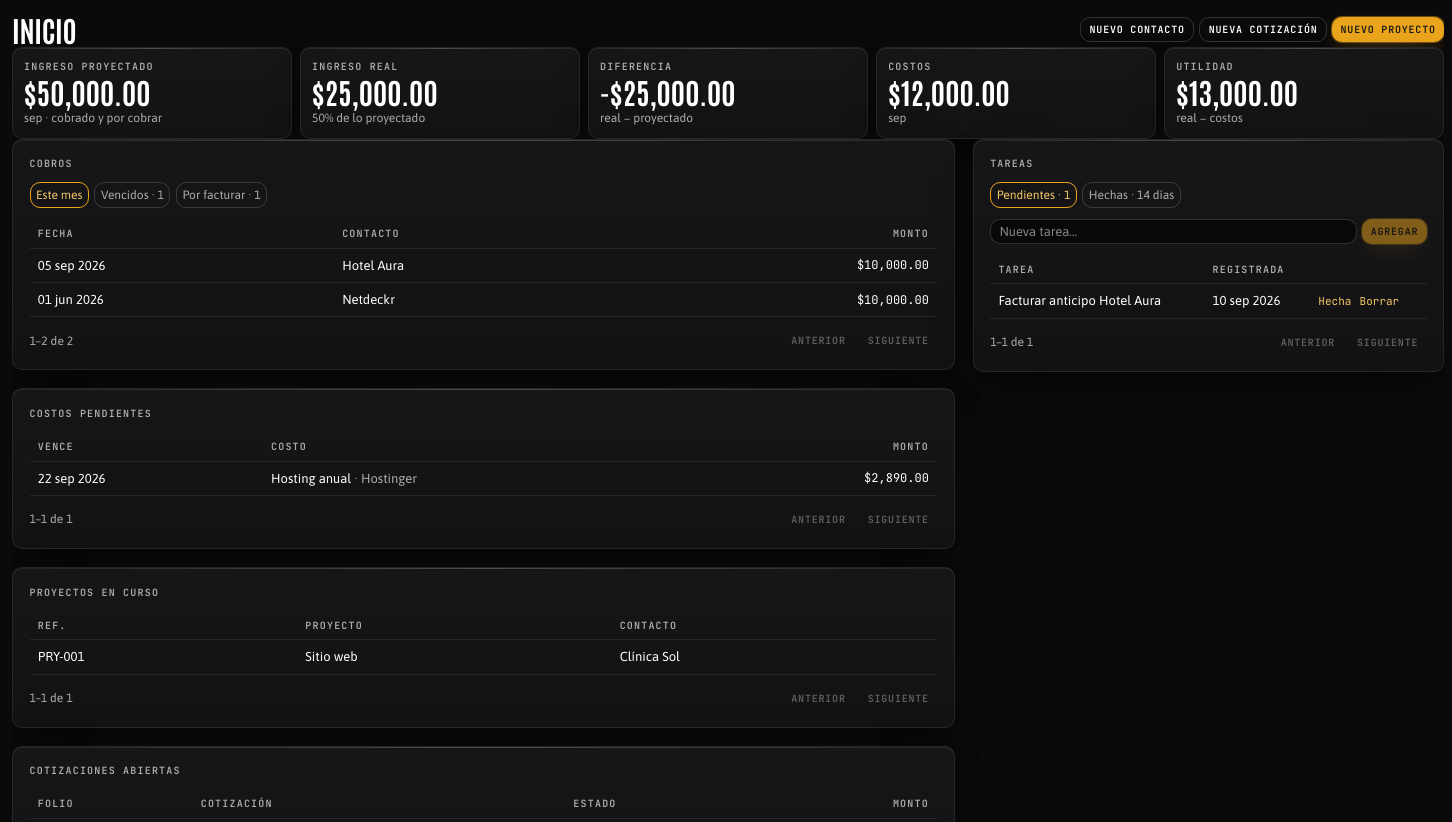
Test: Inicio › splits Cobros into this month, overdue and por facturar
Check: the text "Hotel Aura" is shown, box [334, 248, 618, 282]
Check: the text "Netdeckr" is shown, box [334, 282, 618, 317]
Click the button "Vencidos · 1".
click(132, 195)  # box [94, 182, 170, 208]
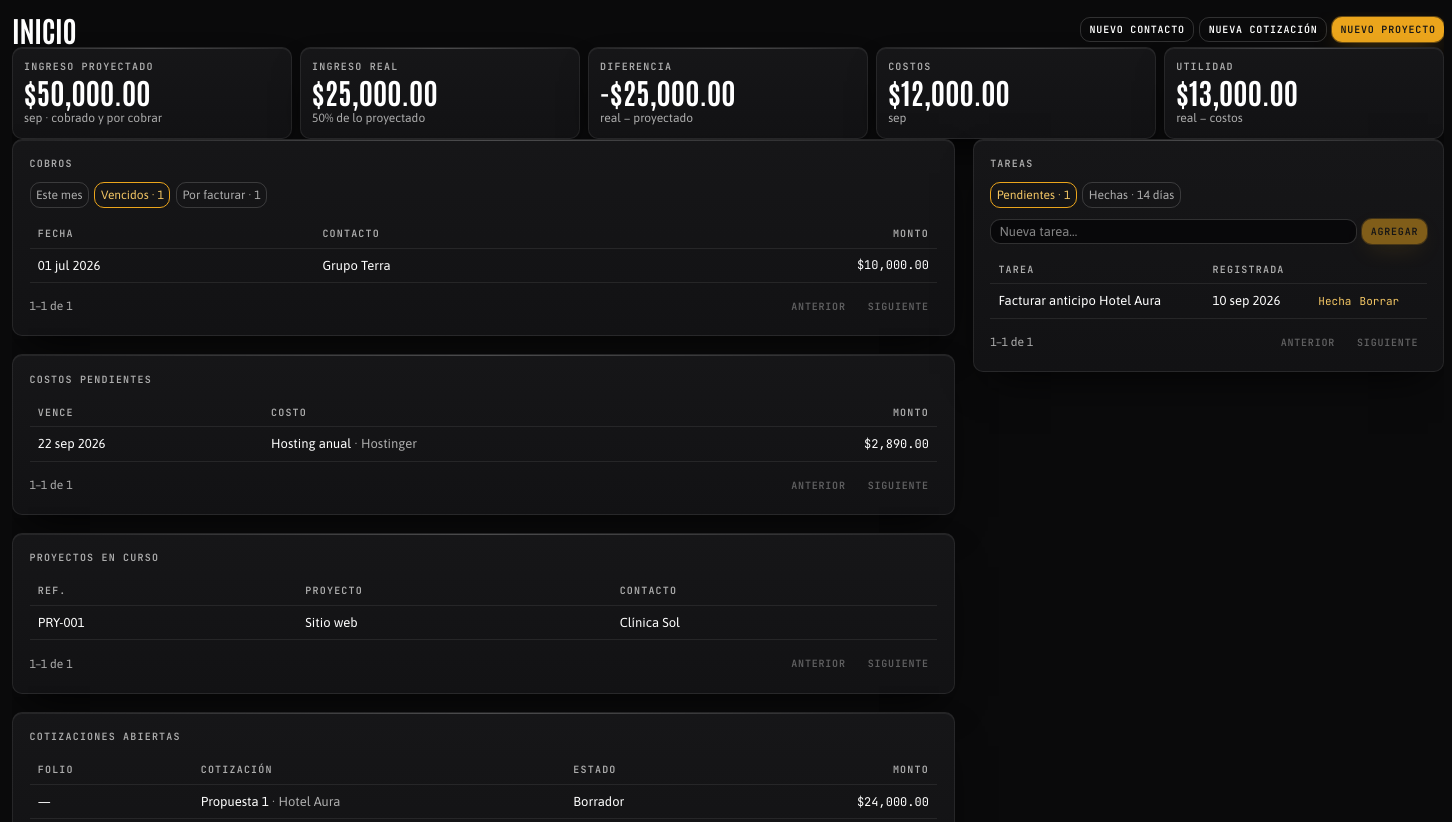
Check: the text "Grupo Terra" is shown, box [314, 248, 619, 282]
Click the button "Por facturar · 1".
click(222, 195)  # box [176, 182, 267, 208]
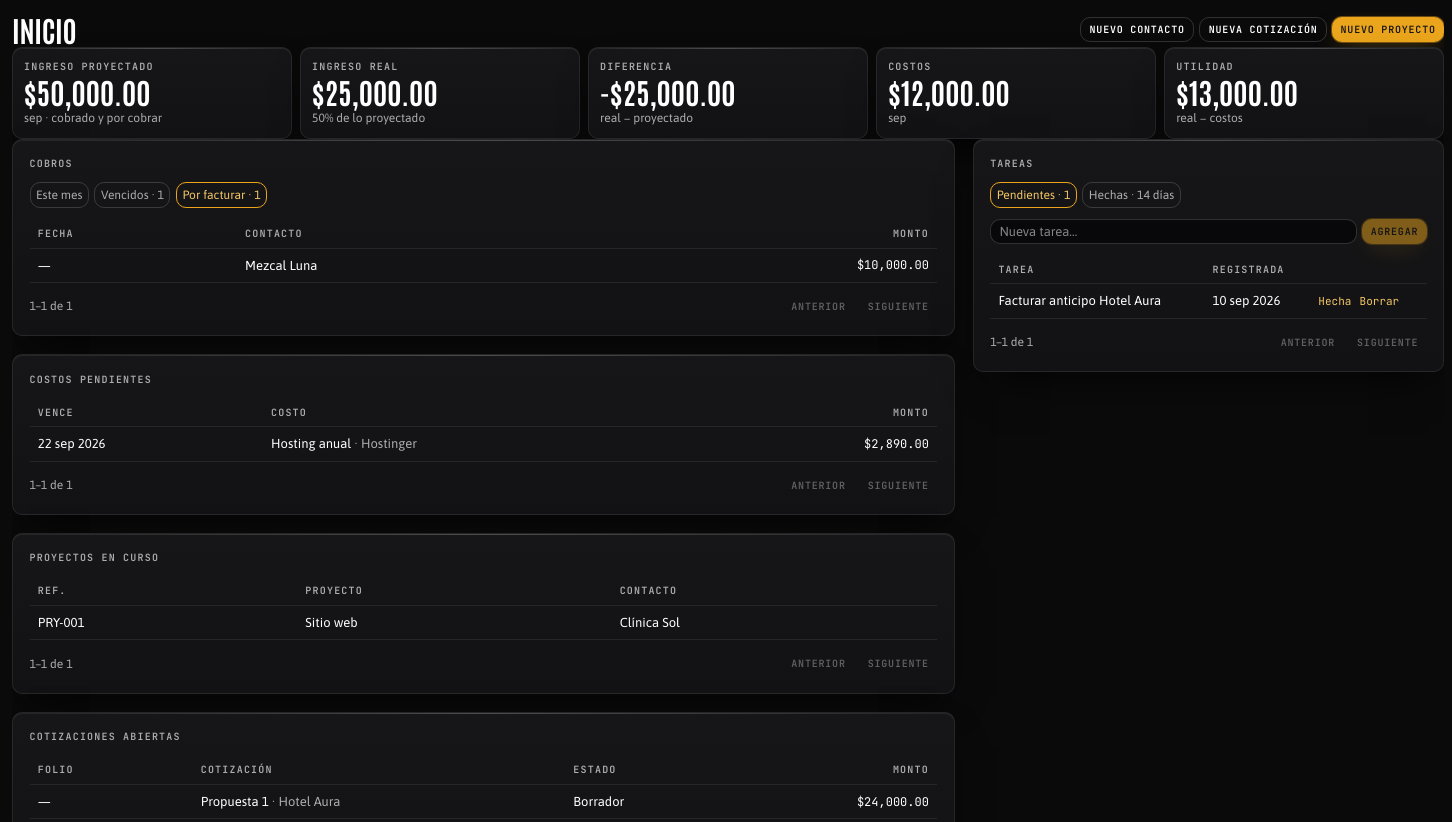
Check: the text "Mezcal Luna" is shown, box [237, 248, 588, 282]
